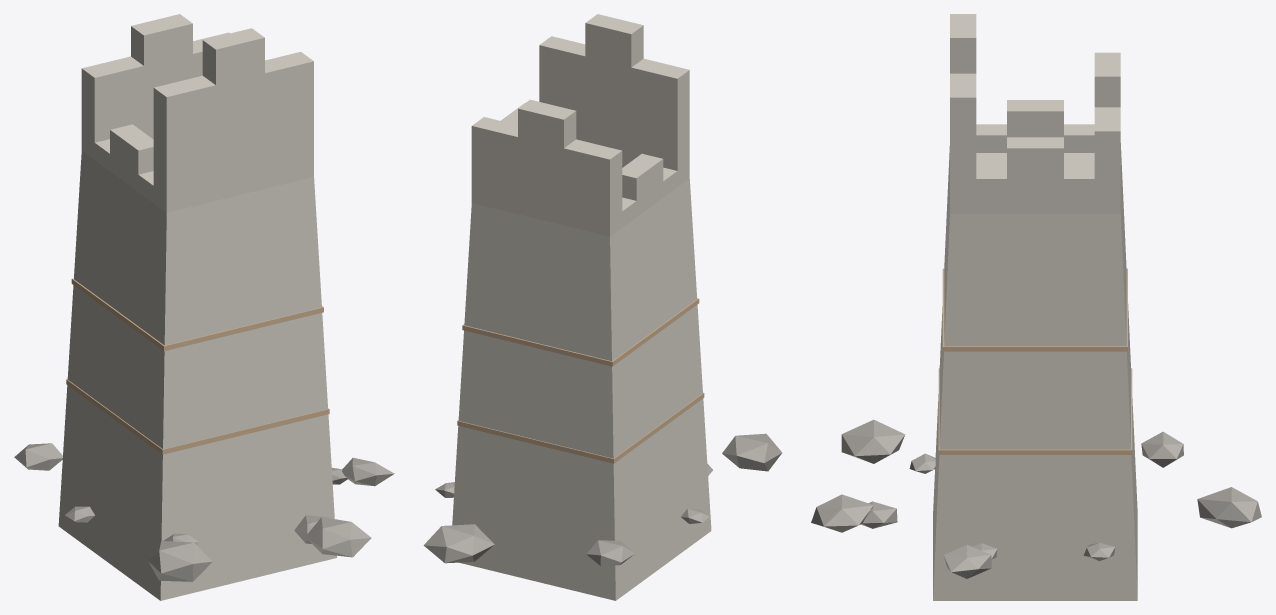
The picture shows the model from 3 angles, left to right: view 1: azimuth 30°, elevation 25°; view 2: azimuth 150°, elevation 25°; view 3: azimuth 270°, elevation 25°; orthographic projection. The views are drawn at different scales.
Visible parts, largest first — view 1: WB_diaolouRuin_0.85; view 2: WB_diaolouRuin_0.85; view 3: WB_diaolouRuin_0.85.
Boxes of the visible parts, left/top/right/bottom form: WB_diaolouRuin_0.85: left=14, top=14, right=394, bottom=600; WB_diaolouRuin_0.85: left=423, top=14, right=782, bottom=600; WB_diaolouRuin_0.85: left=811, top=14, right=1261, bottom=600.
Bounding box in the file's own units: 8.6 × 15.19 × 11.67.
